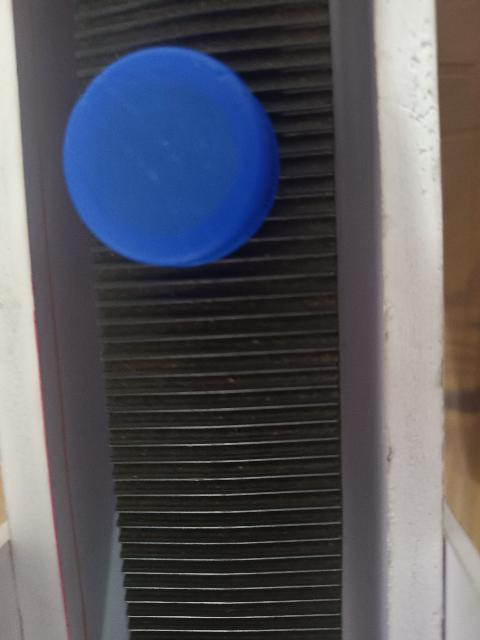bottlecap: (64, 42, 282, 276)
